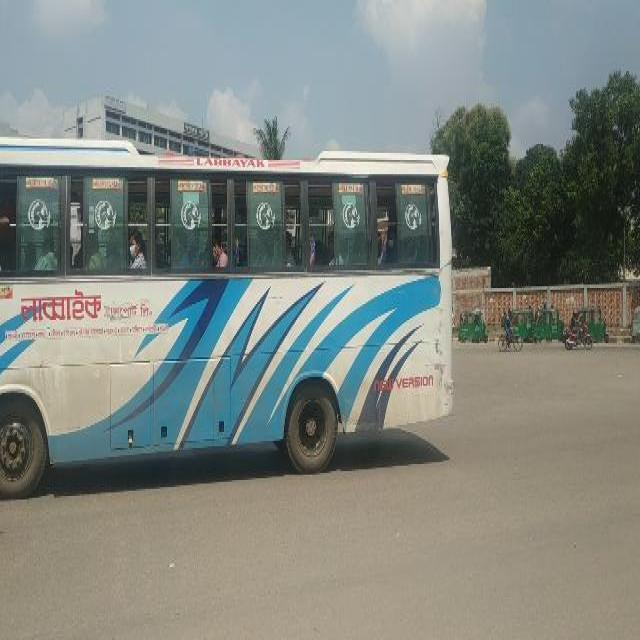bicycle: (497, 325, 523, 354)
bus: (1, 131, 456, 502)
motorbike: (562, 322, 594, 350)
three wheelers -CNG-: (578, 308, 610, 343), (534, 306, 562, 345), (458, 308, 488, 342), (514, 308, 532, 338)
